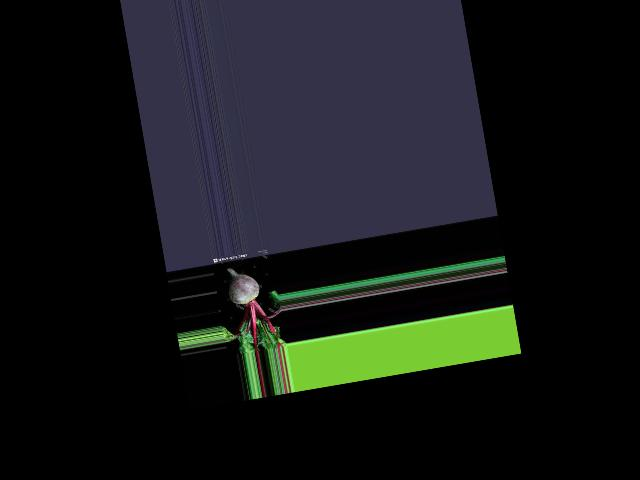beet: (212, 260, 287, 356)
